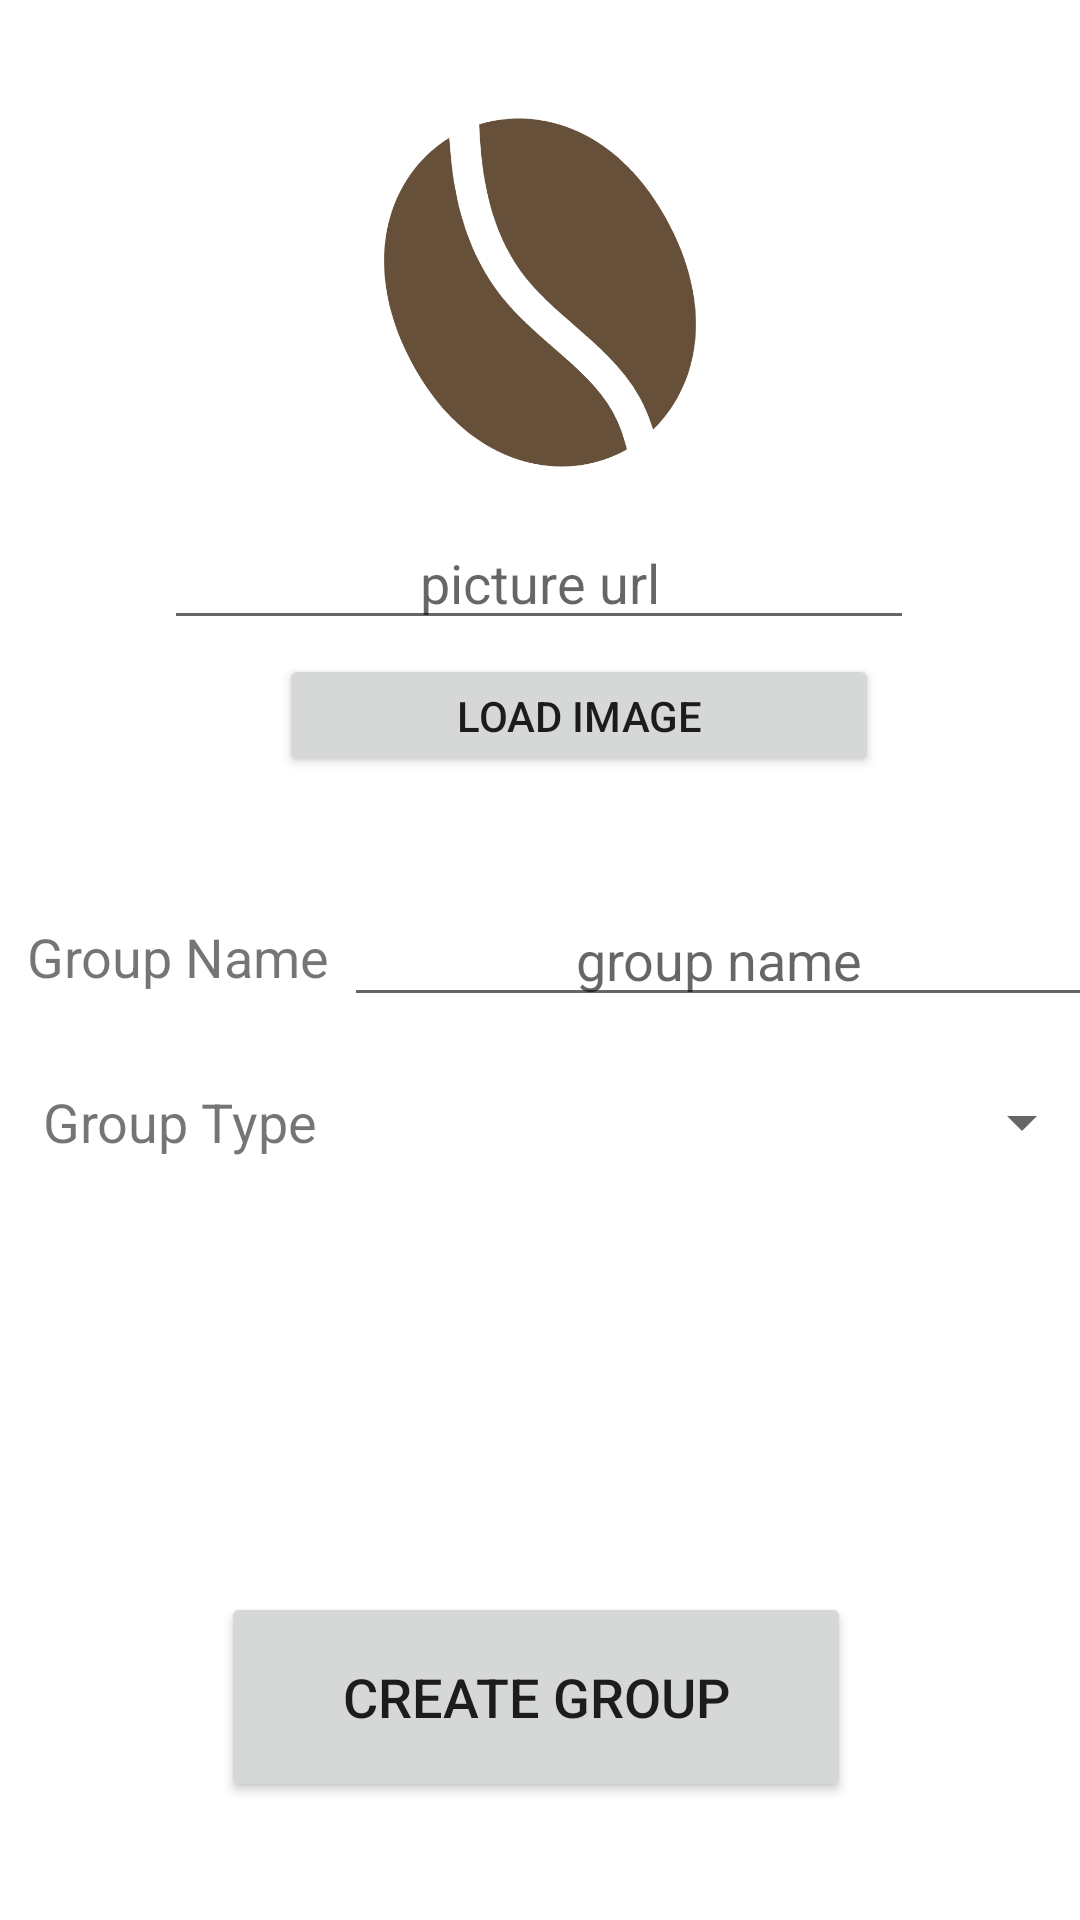

Where icons sit on this 1080 × 1920 app screen, as {"x1": x1, "y1": y1, "x2": x2, "y2": y2}:
coffeebean: {"x1": 384, "y1": 118, "x2": 696, "y2": 467}
